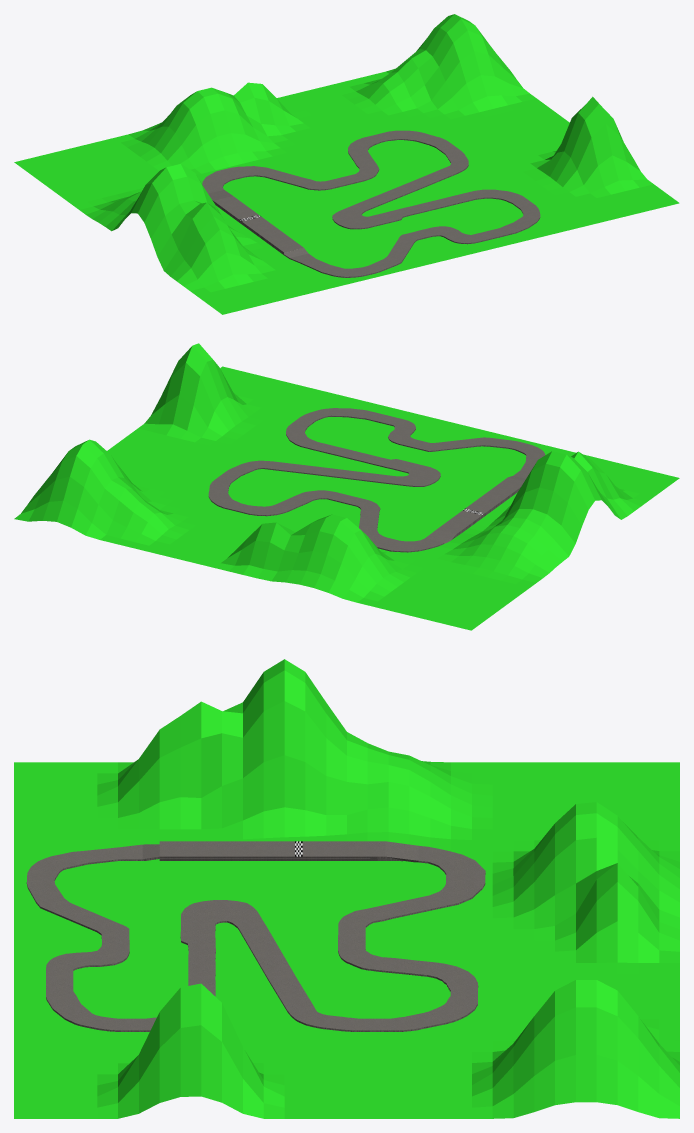
The model's file is mapa4.2 (1).fbx.
3 renders of one model, top to bottom at view 1: azimuth 30°, elevation 25°; view 2: azimuth 150°, elevation 25°; view 3: azimuth 270°, elevation 25°, orthographic. The views are drawn at different scales.
Parts seen in each view (by area): view 1: Plane.001, Plane; view 2: Plane.001, Plane; view 3: Plane.001, Plane.
Boxes of the visible parts, x1,y1,x2,y2 form: Plane.001: (14, 14, 679, 314); Plane: (202, 130, 540, 277); Plane.001: (14, 343, 679, 630); Plane: (208, 408, 545, 552); Plane.001: (14, 659, 679, 1118); Plane: (26, 841, 485, 1031).
Bounding box in the file's own units: 879 × 148 × 694.
